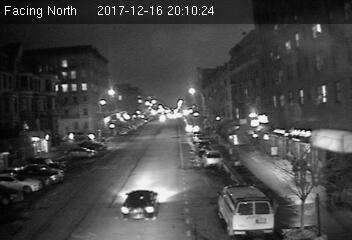car: (119, 188, 161, 220), (202, 148, 224, 167)
police: (215, 182, 275, 235)
